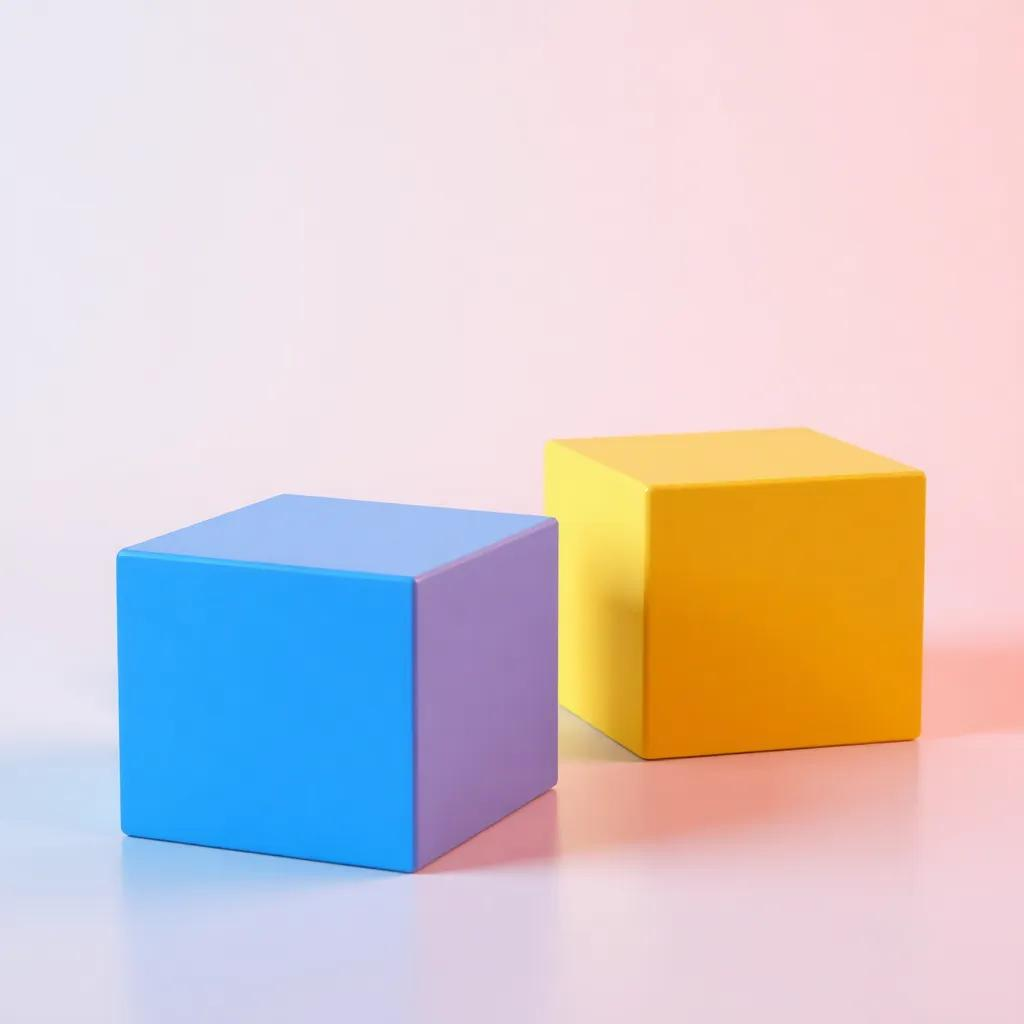cube: (115, 490, 559, 873), (542, 424, 926, 760)
